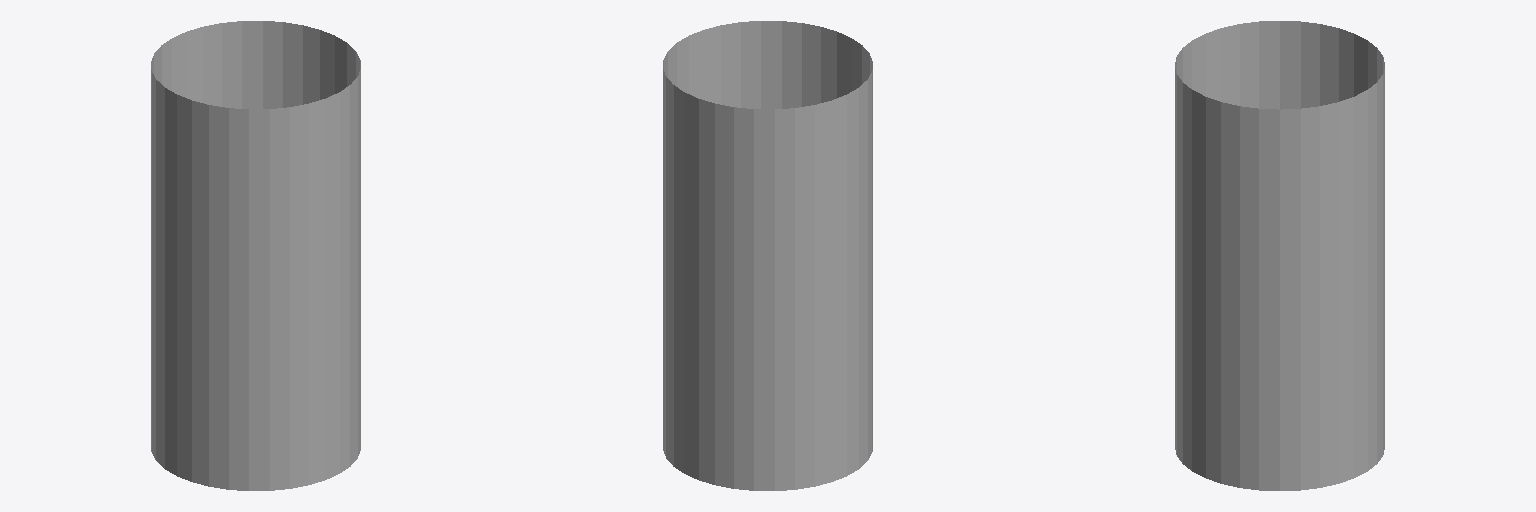
The model's file is cylinderStraight.obj.
The picture shows the model from 3 angles: view 1: azimuth 30°, elevation 25°; view 2: azimuth 150°, elevation 25°; view 3: azimuth 270°, elevation 25°; orthographic projection.
Parts seen in each view (by area): view 1: Cylinder; view 2: Cylinder; view 3: Cylinder.
Part boxes in pixels (left/top/right/bottom): Cylinder: left=151, top=21, right=360, bottom=490; Cylinder: left=663, top=21, right=872, bottom=490; Cylinder: left=1175, top=21, right=1384, bottom=490.
Bounding box in the file's own units: 0.5 × 1 × 0.5.